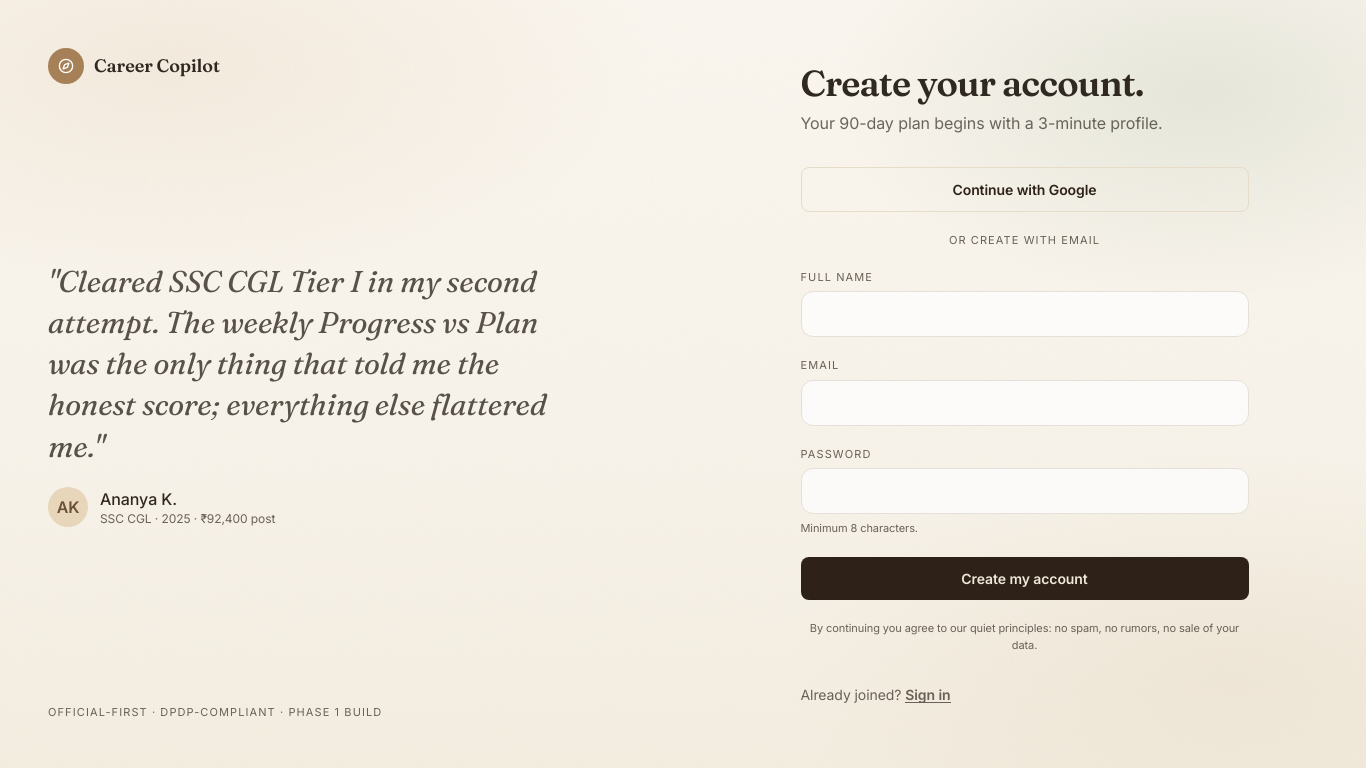
Test: resets Turnstile after register failure
This screenshot has width=1366, height=768.
Type "Alice" into the field with test id "signup-name" at [1024, 314], box [800,291,1248,337]
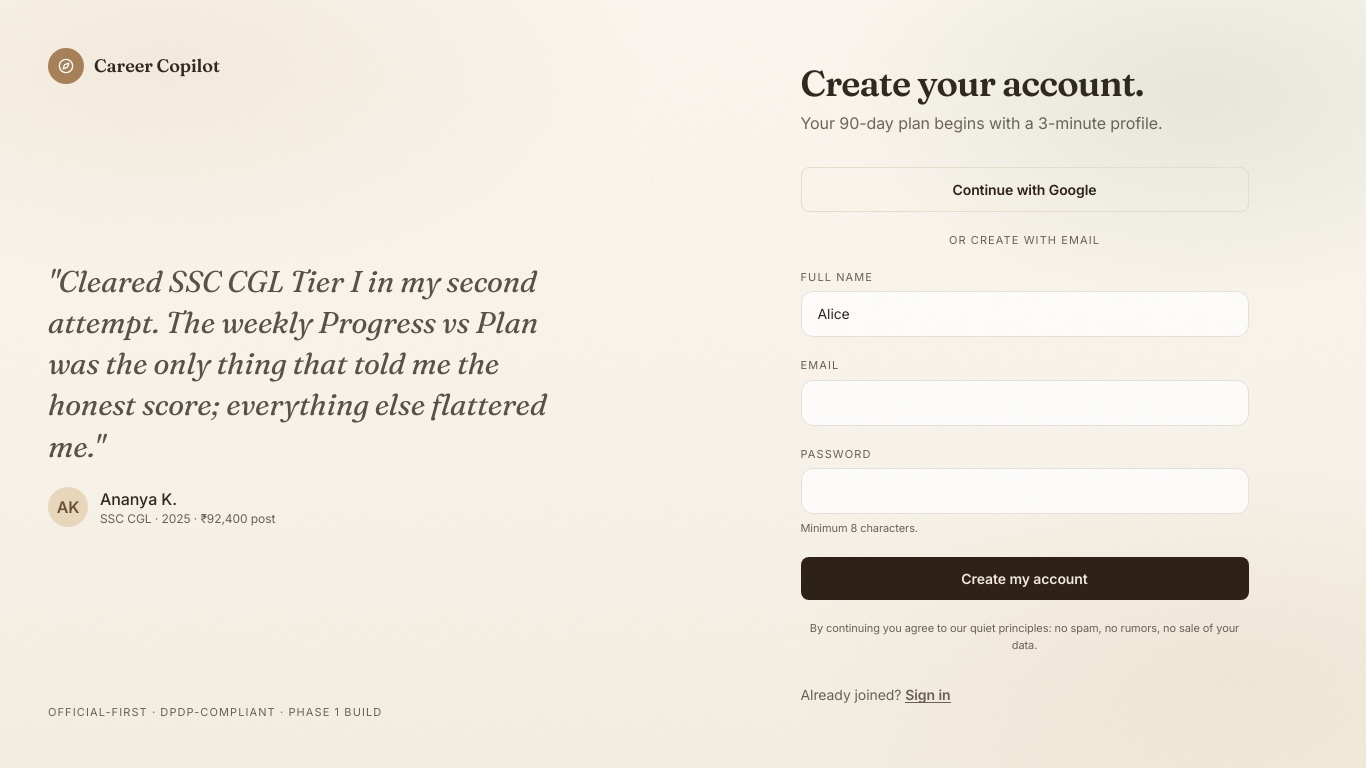
Type "a@x.com" into the field with test id "signup-email" at [1024, 403], box [800,380,1248,426]
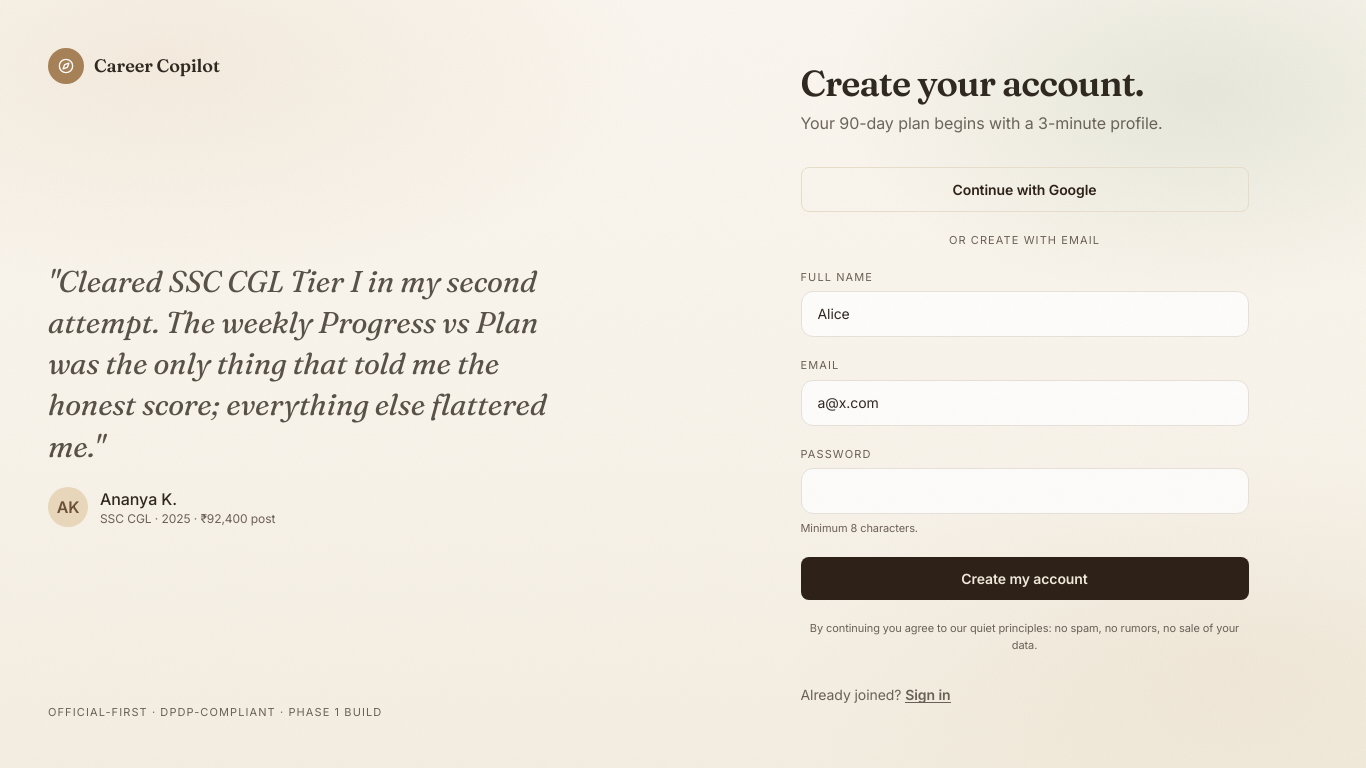
Type "pw12345" into the password field with test id "signup-password" at [1024, 491], box [800,468,1248,514]
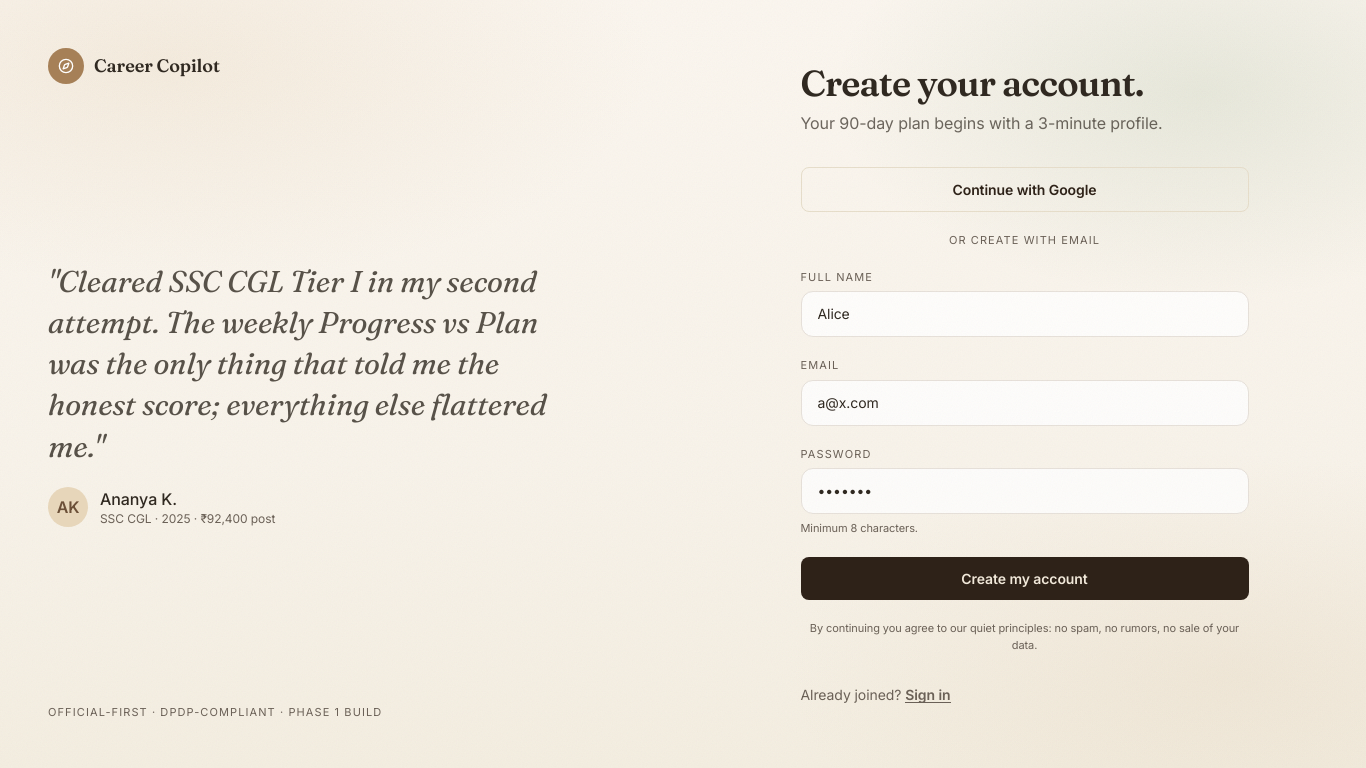
Click the button with test id "signup-submit" at [1024, 578], box [800,557,1248,600]
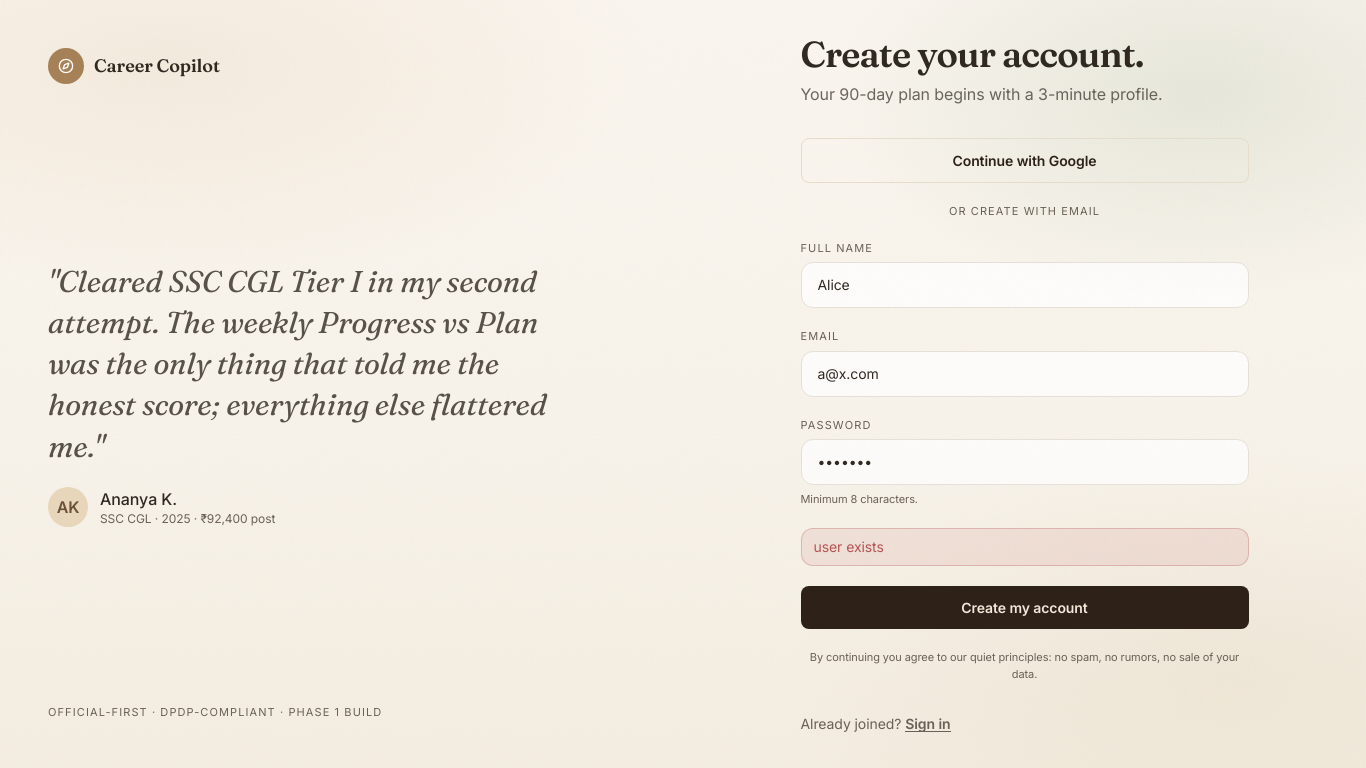
Expected: the text "user exists" is shown, [800,528,1248,566]
